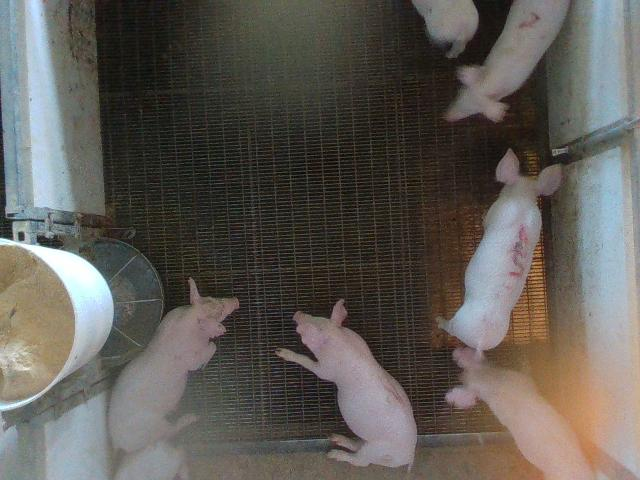pig-1: (276, 300, 416, 467)
pig-3: (438, 149, 562, 352)
